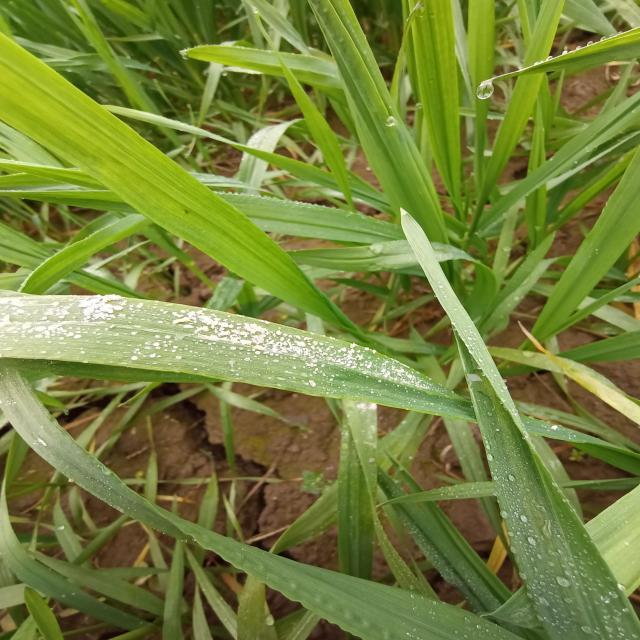Powdery Mildew: (0, 276, 444, 412)
